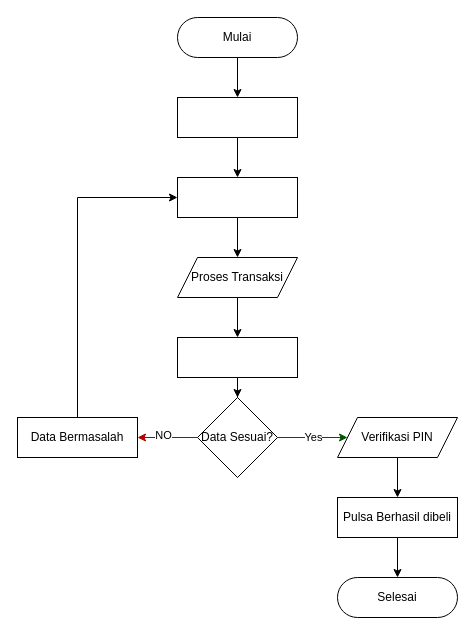
The diagram is 475 pixels wide and 635 high, and some of its shapes have lost their labels. Each missing label, with the centre of its shape:
"Cek Data Transaksi" goes at [237,357].
"Home" goes at [237,117].
"Pulsa" goes at [237,197].
